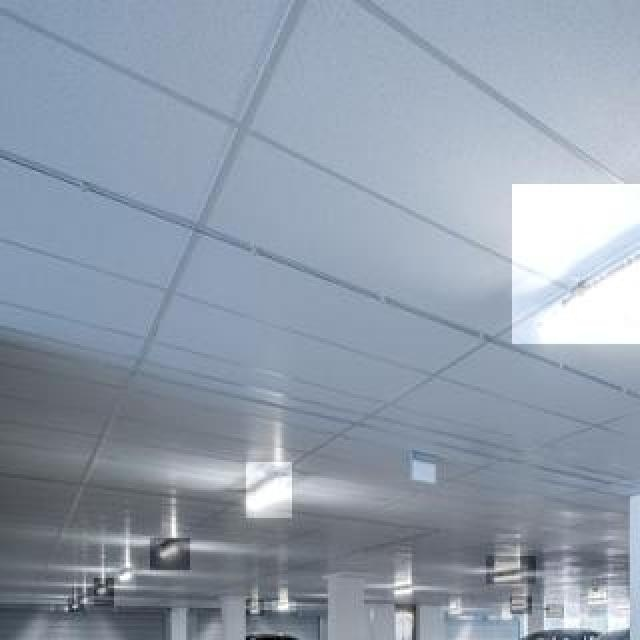fluorescent tube: (542, 216, 640, 310), (249, 469, 287, 526), (153, 538, 191, 567), (491, 567, 527, 591)
